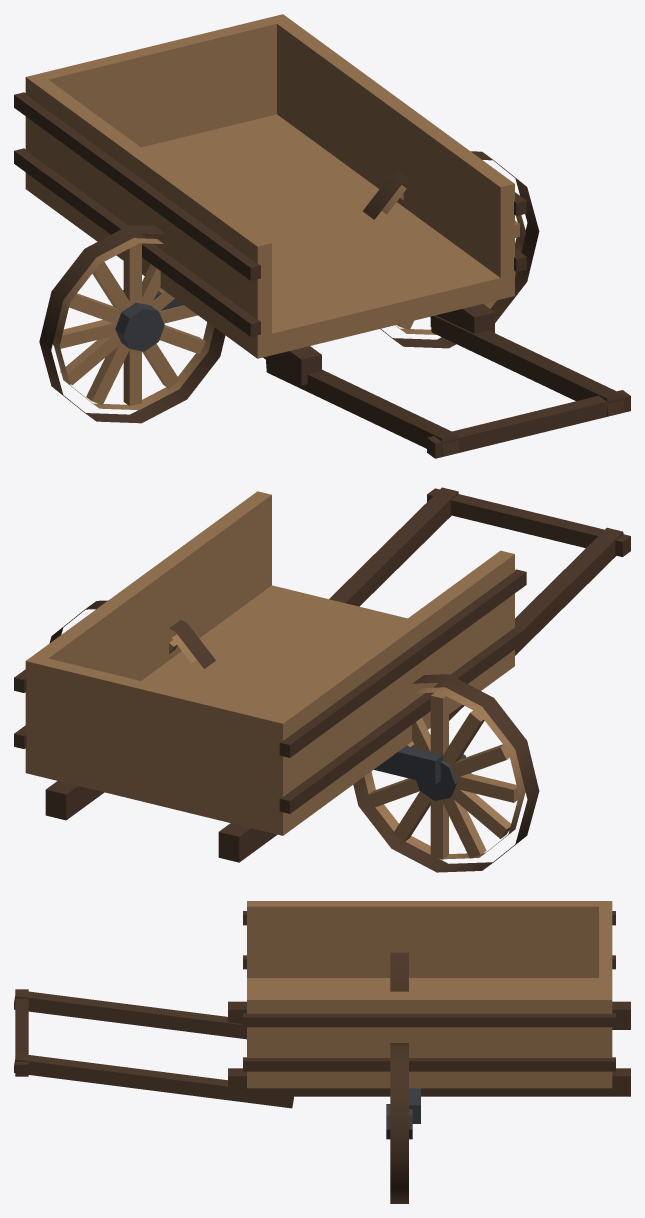
File: wood_cart.glb
The picture shows the model from 3 angles, top to bottom: view 1: azimuth 30°, elevation 25°; view 2: azimuth 150°, elevation 25°; view 3: azimuth 270°, elevation 25°; orthographic projection. The views are drawn at different scales.
Visible parts, largest first — view 1: wood_cart_lod0; view 2: wood_cart_lod0; view 3: wood_cart_lod0.
Boxes of the visible parts, bbox=[...] form: wood_cart_lod0: bbox=[14, 14, 630, 458]; wood_cart_lod0: bbox=[14, 487, 630, 872]; wood_cart_lod0: bbox=[14, 901, 630, 1203].
Size of what is drawn, in the model's own units: 2.37 by 1.1 by 3.29.
